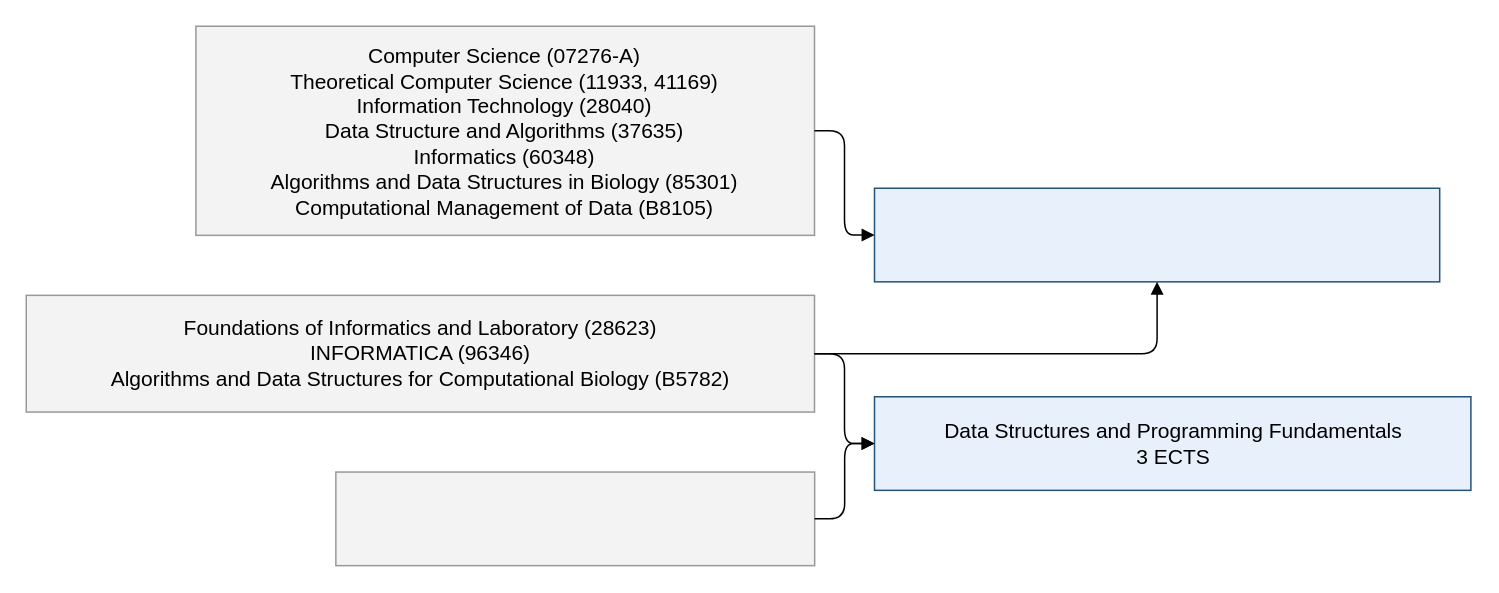
Some shapes in this 1499 by 593 pixel diagram are drawn without their labels. The centre of each missing label's shape, as x and y in pixels:
Data Structures and Programming Algorithms 3 ECTS: [1156,234]
Programming (00819) Foundations of Informatics T (29227): [574,518]
